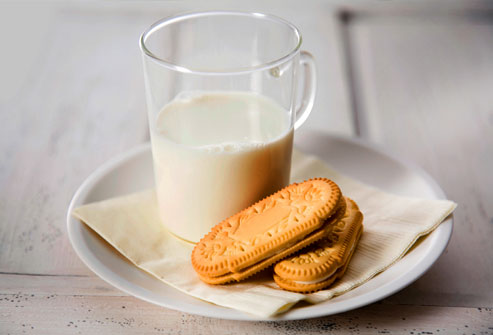glass of milk: (157, 45, 251, 204)
